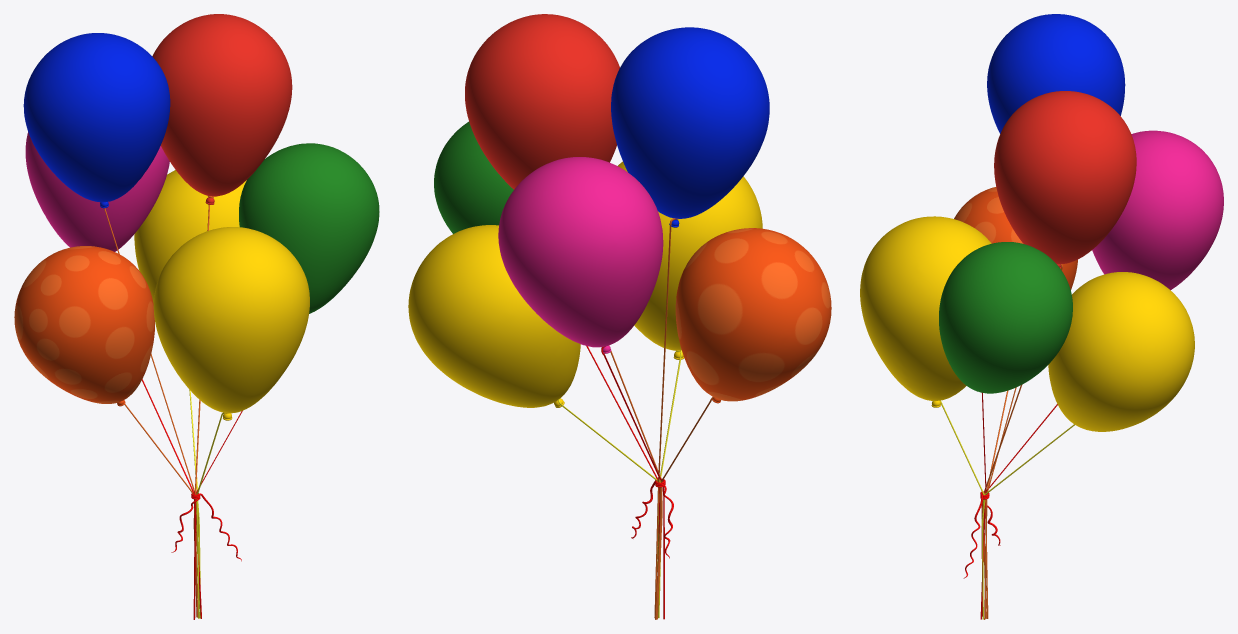
File: Destination.fbx
3 renders of one model, left to right at view 1: azimuth 30°, elevation 25°; view 2: azimuth 150°, elevation 25°; view 3: azimuth 270°, elevation 25°, orthographic. The views are drawn at different scales.
Parts seen in each view (by area): view 1: node_id81; view 2: node_id81; view 3: node_id81.
Boxes of the visible parts, x1,y1,x2,y2 form: node_id81: [14, 14, 379, 619]; node_id81: [408, 14, 831, 619]; node_id81: [860, 14, 1223, 619].
Size of the model in its own units: 0.3252 by 0.512 by 0.2981.
Materials: 1 (1 with a texture image).
